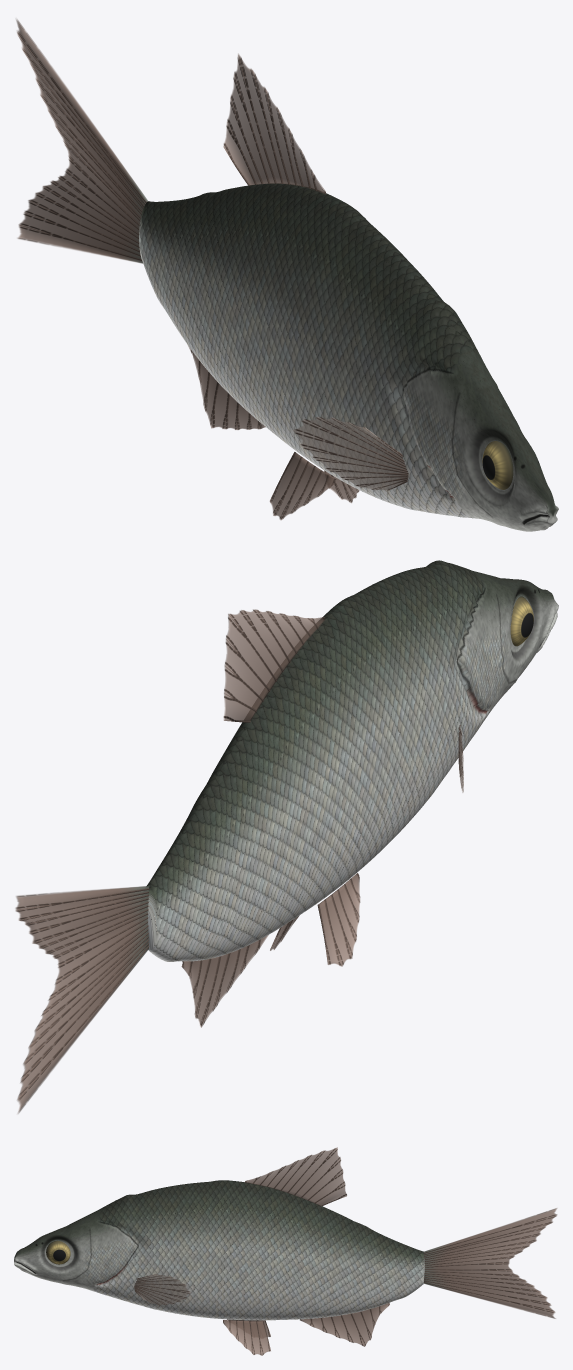
File: sapa.glb
The picture shows the model from 3 angles, top to bottom: view 1: azimuth 30°, elevation 25°; view 2: azimuth 150°, elevation 25°; view 3: azimuth 270°, elevation 25°; orthographic projection. The views are drawn at different scales.
Parts seen in each view (by area): view 1: Body, FinCaudal, FinDorsal1, FinPectoral, FinPelvic, FinAnal, EyeLeft; view 2: Body, FinCaudal, FinDorsal1, FinPelvic, FinAnal, EyeLeft; view 3: Body, FinCaudal, FinDorsal1, FinAnal, FinPectoral, FinPelvic, EyeRight.
Part boxes in pixels (<box>): Body: <box>139,183,558,531</box>; FinCaudal: <box>16,19,147,263</box>; FinDorsal1: <box>223,53,325,193</box>; FinPectoral: <box>293,417,408,490</box>; FinPelvic: <box>269,452,359,520</box>; FinAnal: <box>188,346,265,429</box>; EyeLeft: <box>482,441,513,489</box>; Body: <box>146,560,558,961</box>; FinCaudal: <box>15,886,149,1113</box>; FinDorsal1: <box>223,609,324,722</box>; FinPelvic: <box>270,873,360,966</box>; FinAnal: <box>181,935,268,1027</box>; EyeLeft: <box>510,596,533,646</box>; Body: <box>14,1180,424,1320</box>; FinCaudal: <box>423,1208,557,1318</box>; FinDorsal1: <box>245,1147,346,1206</box>; FinAnal: <box>300,1303,389,1346</box>; FinPectoral: <box>134,1274,190,1305</box>; FinPelvic: <box>223,1319,270,1355</box>; EyeRight: <box>46,1240,70,1264</box>.
Size of the model in its own units: 0.1836 by 0.4078 by 0.9983.
Materials: 8 (7 with a texture image).
